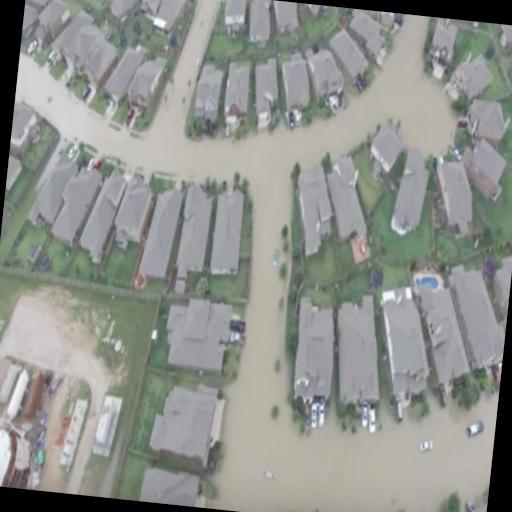flood: (15, 0, 499, 512), (0, 288, 107, 495)
house: (370, 278, 434, 422), (0, 355, 67, 492), (327, 286, 386, 422), (411, 282, 481, 390), (440, 266, 512, 370), (146, 382, 220, 476), (160, 291, 238, 380), (51, 10, 121, 95), (43, 160, 101, 252), (288, 164, 340, 262), (76, 166, 128, 260), (290, 300, 336, 406), (134, 186, 182, 286), (324, 152, 372, 252), (174, 177, 213, 294), (206, 187, 250, 278), (388, 150, 430, 242), (430, 153, 478, 233), (132, 458, 207, 508), (24, 152, 76, 224), (461, 137, 512, 198), (363, 119, 407, 187), (99, 44, 142, 106), (126, 56, 168, 118), (326, 28, 372, 82), (248, 57, 283, 125), (278, 58, 314, 122), (296, 50, 346, 96), (220, 61, 251, 134), (448, 52, 492, 100), (192, 65, 224, 130), (346, 10, 390, 57), (462, 97, 510, 138), (427, 18, 459, 78), (10, 107, 40, 149), (34, 0, 68, 35), (150, 0, 183, 35), (247, 0, 271, 48), (222, 0, 250, 40), (272, 1, 300, 35), (296, 3, 338, 19), (498, 24, 512, 56)
